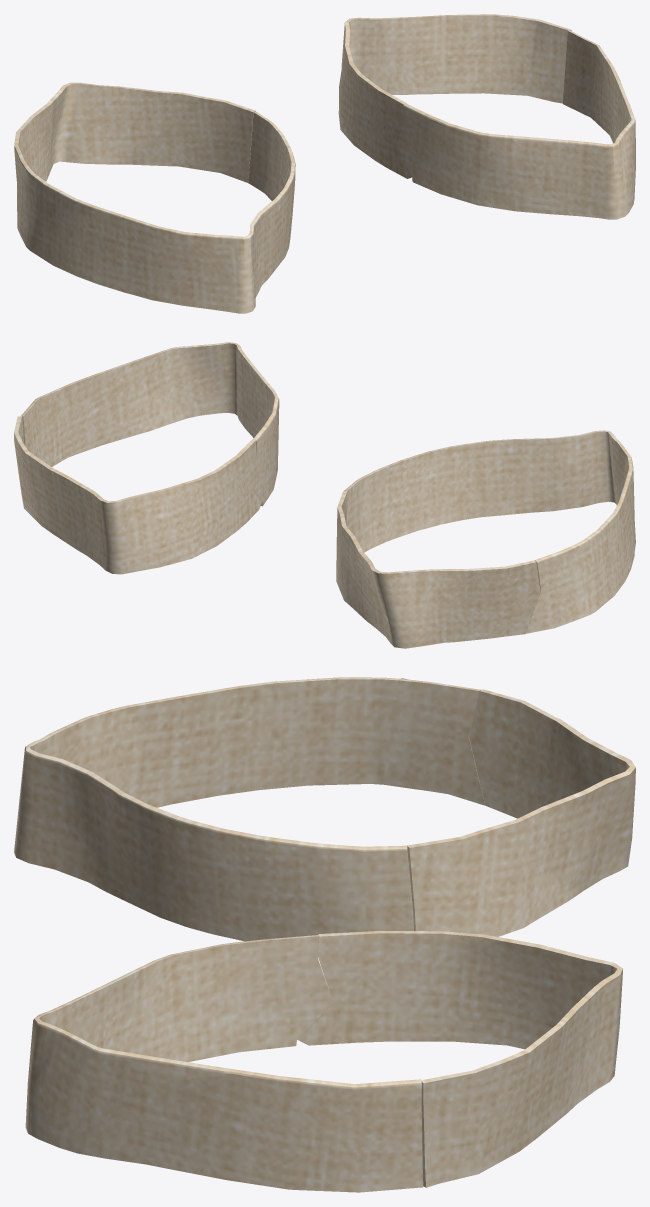
Rendered from Turn_Up_4_cm.glb.
3 views of the same model, one above another, from view 1: azimuth 30°, elevation 25°; view 2: azimuth 150°, elevation 25°; view 3: azimuth 270°, elevation 25° (orthographic). The views are drawn at different scales.
Parts seen in each view (by area): view 1: Turn_Up_4_cm; view 2: Turn_Up_4_cm; view 3: Turn_Up_4_cm.
Boxes of the visible parts, left/top/right/bottom form: Turn_Up_4_cm: left=14, top=14, right=635, bottom=313; Turn_Up_4_cm: left=14, top=342, right=635, bottom=648; Turn_Up_4_cm: left=14, top=677, right=635, bottom=1192.
Size of the model in its own units: 0.0426 by 0.00528 by 0.027.
Materials: 1 (1 with a texture image).
